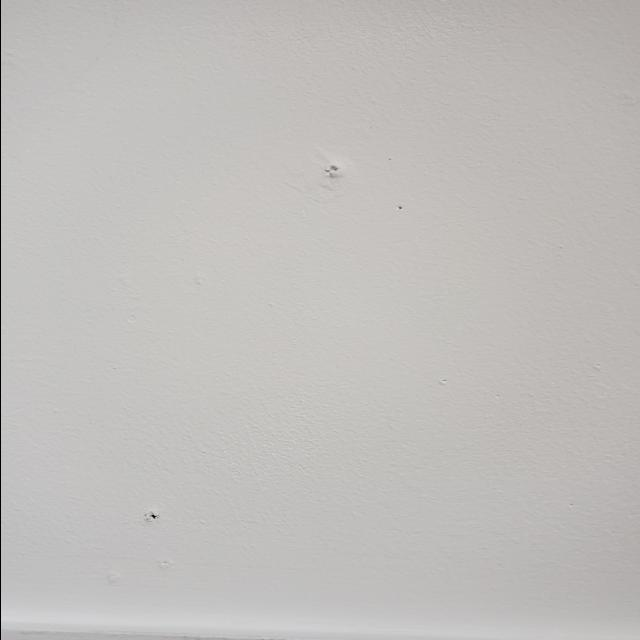Crack: (328, 166, 338, 177), (150, 511, 158, 522), (397, 205, 403, 212), (389, 156, 392, 163)
